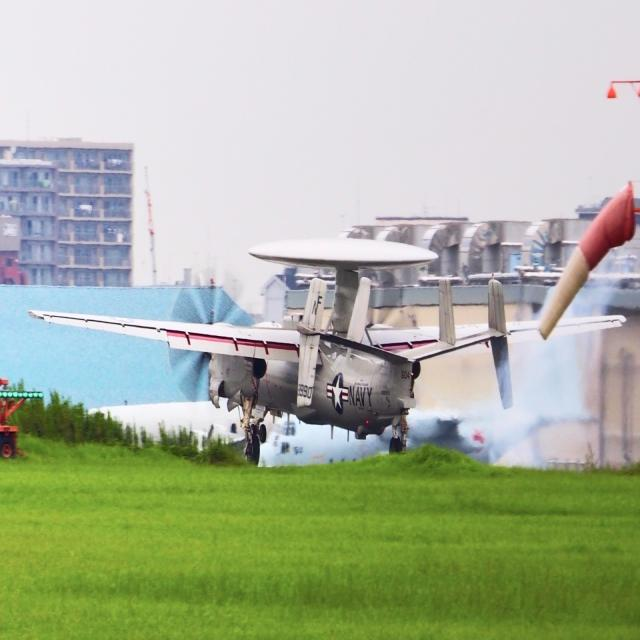MIL_Plane: (0, 286, 248, 468), (283, 239, 370, 463)
